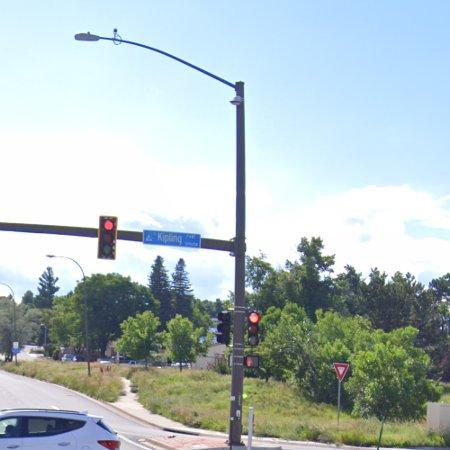traffic lights: (98, 212, 120, 262), (246, 309, 262, 350), (216, 308, 230, 347), (245, 353, 260, 372)
